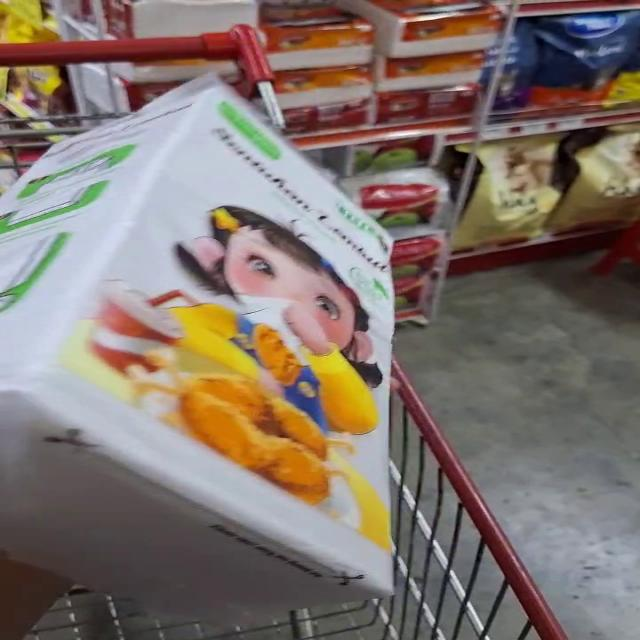Tisu: (0, 255, 431, 598), (16, 83, 442, 317)
